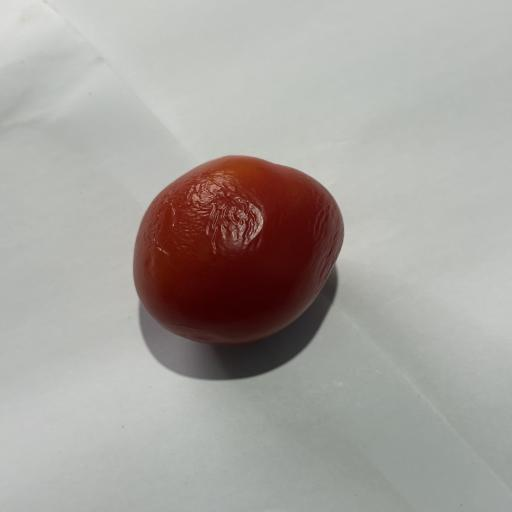spoiled: (133, 156, 343, 345)
